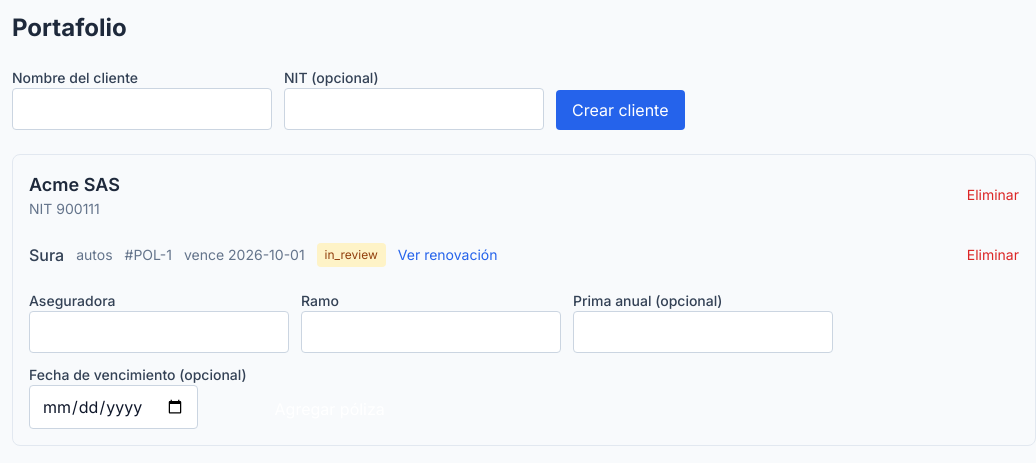
Test: Portfolio page › deletes a client after confirmation
Expected: the heading "Acme SAS" is shown, [29,171,120,199]
Click the button with aria-label "eliminar cliente Acme SAS" at (993, 195), box [967,185,1019,205]
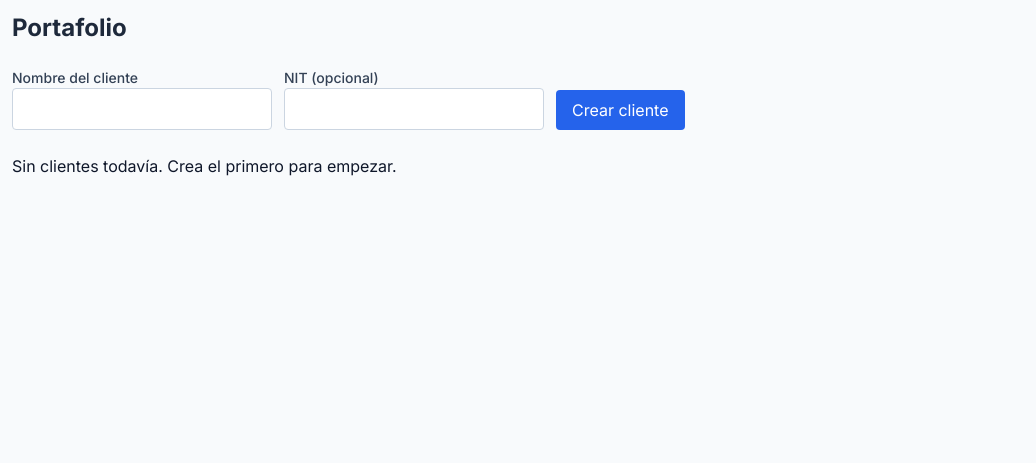
Expected: the heading "Acme SAS" is gone
